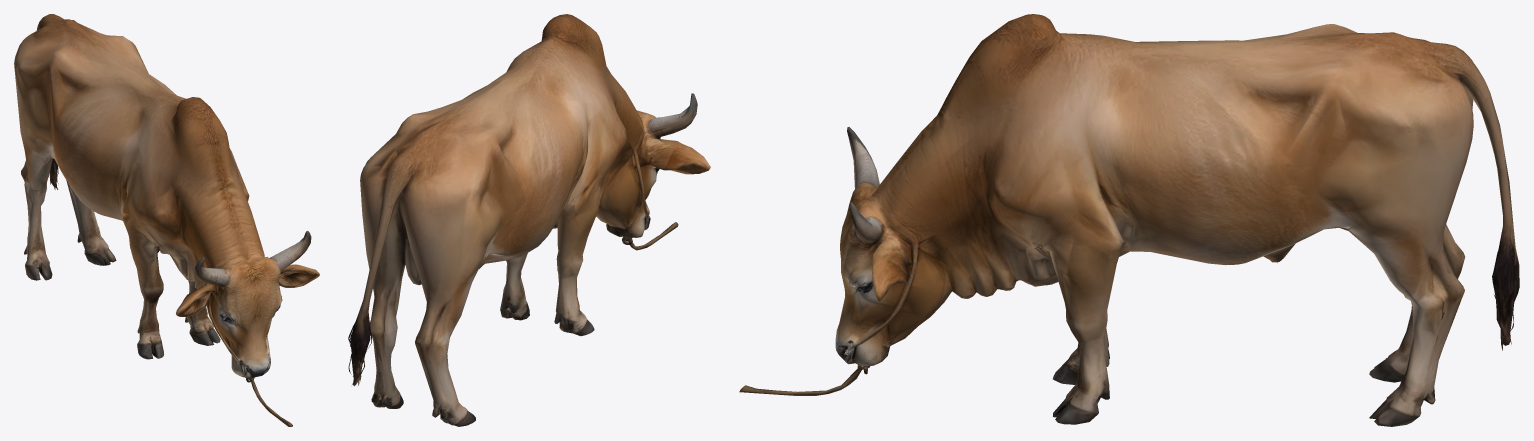
The model's file is cow_lod0.glb.
3 renders of one model, left to right at view 1: azimuth 30°, elevation 25°; view 2: azimuth 150°, elevation 25°; view 3: azimuth 270°, elevation 25°, orthographic. The views are drawn at different scales.
Parts seen in each view (by area): view 1: node_0; view 2: node_0; view 3: node_0.
Part boxes in pixels (bbox=[...]): node_0: bbox=[14, 14, 319, 426]; node_0: bbox=[348, 14, 710, 426]; node_0: bbox=[739, 14, 1519, 426].
Bounding box in the file's own units: 0.3414 × 0.5715 × 1.06.
Materials: 1 (1 with a texture image).
